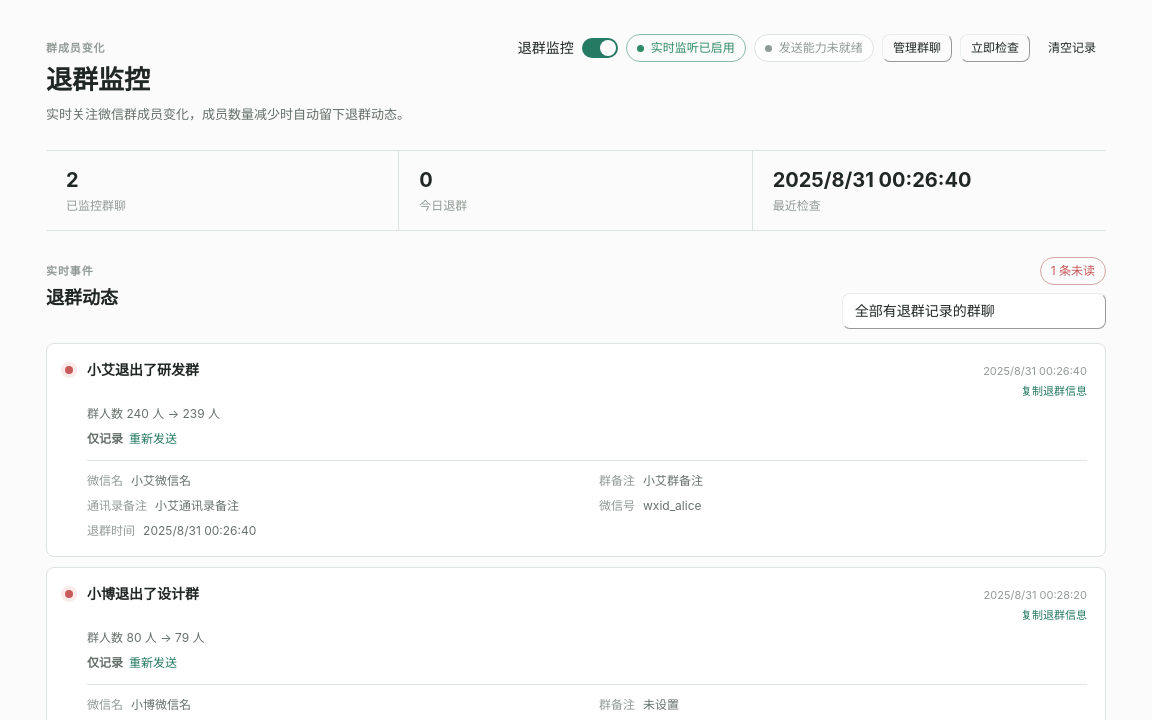
Test: GroupExitMonitorWorkspace › shows the send capability and explains an unavailable state on hover
The width and height of the screenshot is (1152, 720).
Click the button "管理群聊". click: (917, 48)
box: 882,34 -> 952,62
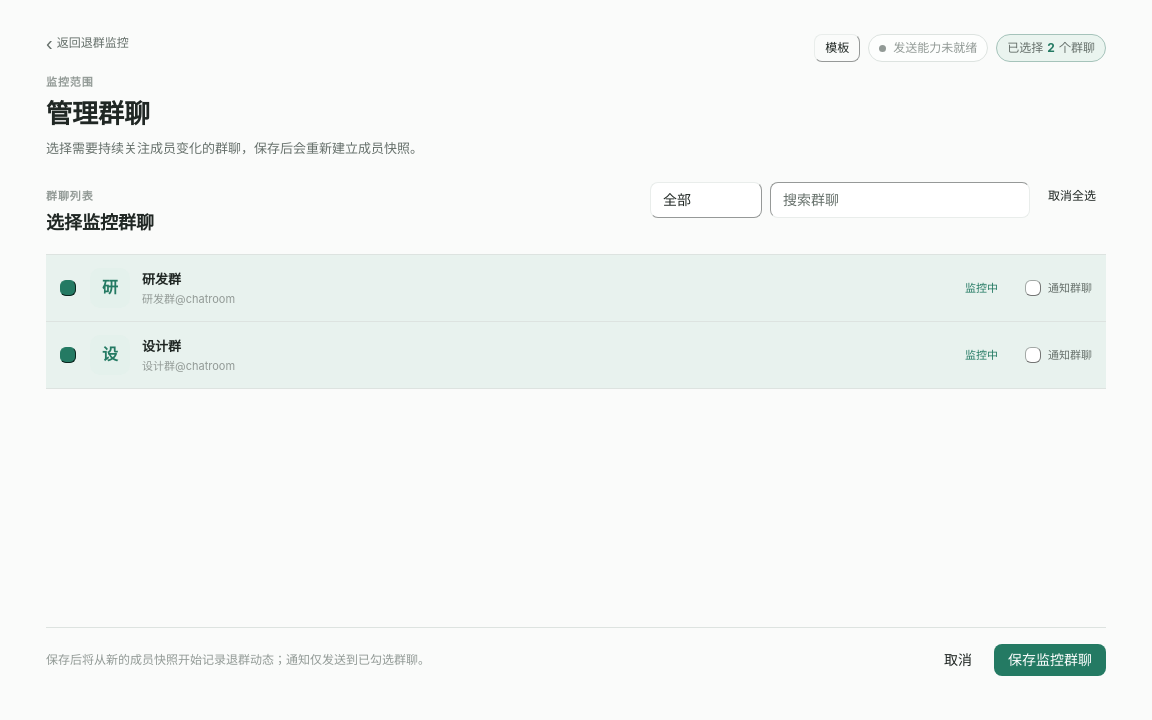
Hover over the text "发送能力未就绪" at (928, 48), box 868,34 -> 988,62
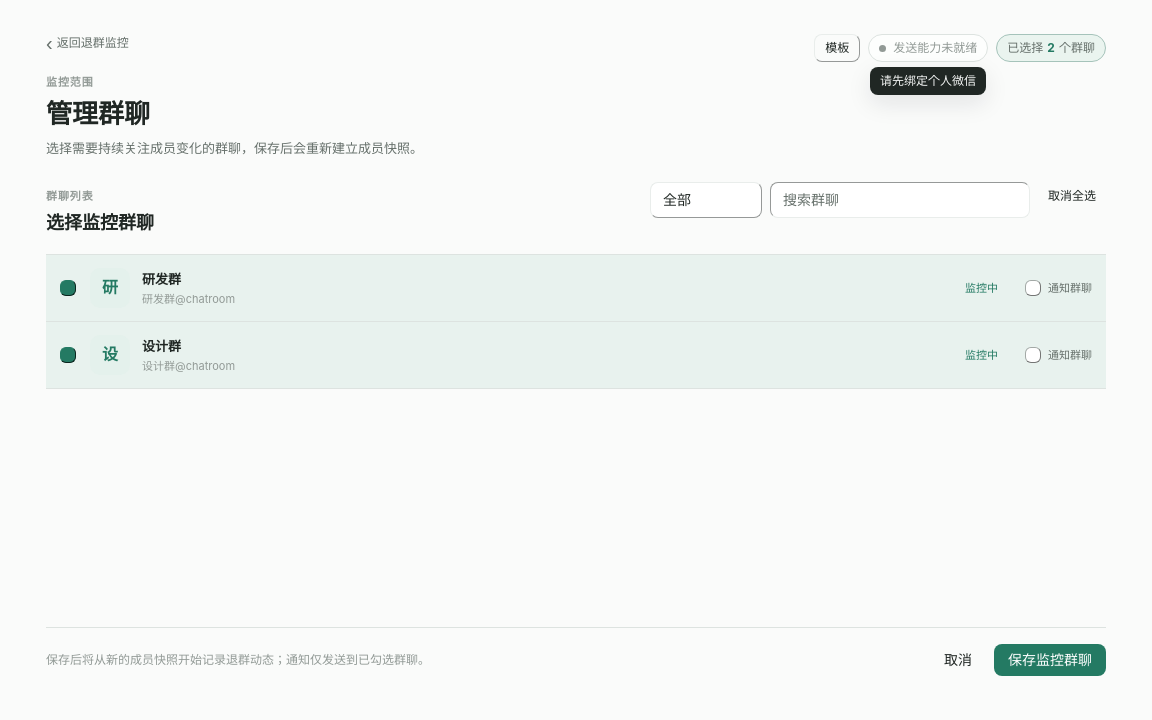
Check: the tooltip reads "请先绑定个人微信", box 880,73 -> 976,88
